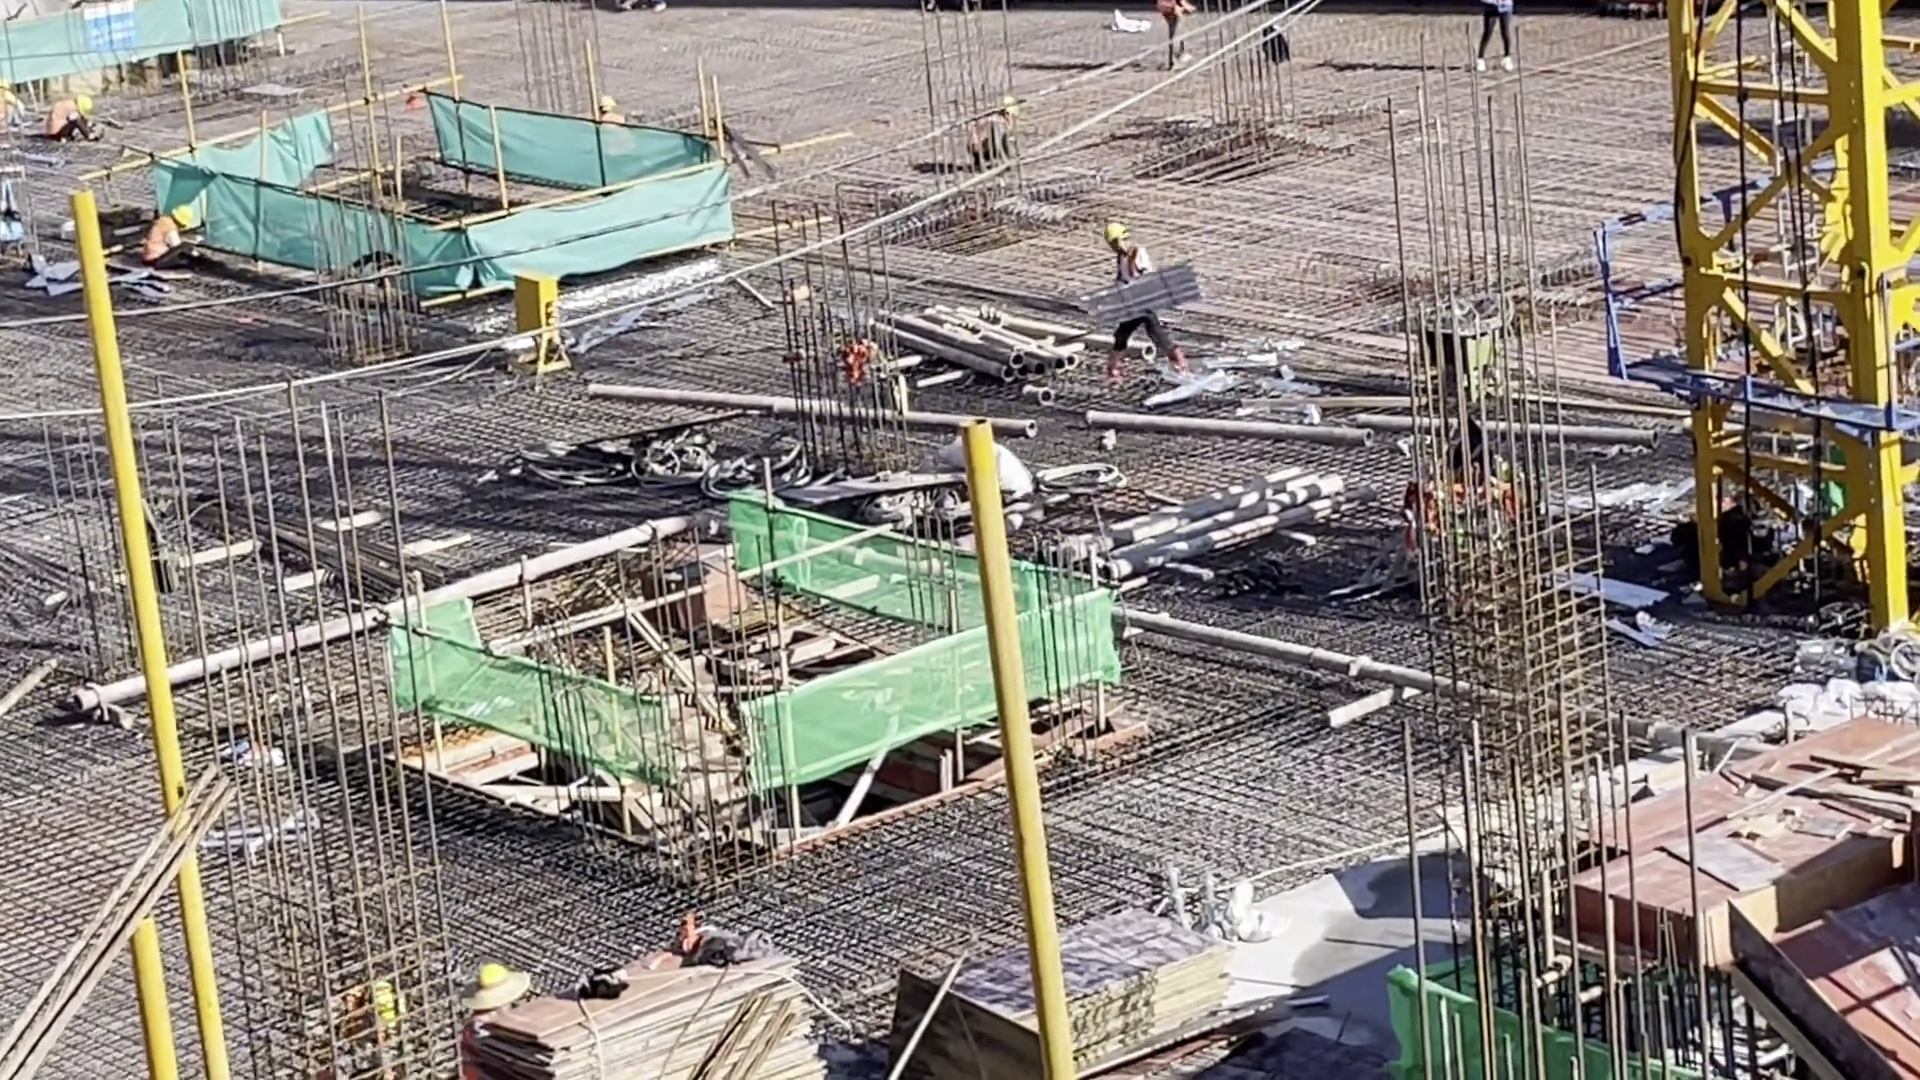board: (882, 865, 1265, 1075), (419, 924, 833, 1065)
ebox: (514, 254, 609, 407)
helmet: (479, 954, 516, 993), (72, 87, 97, 124), (1103, 216, 1131, 242), (171, 200, 194, 223), (594, 93, 619, 111), (1, 78, 17, 92)
person: (1092, 216, 1194, 397), (138, 189, 221, 276), (964, 90, 1025, 163), (1473, 1, 1519, 76), (584, 86, 642, 140), (45, 93, 106, 144), (1162, 1, 1199, 67), (1, 77, 17, 136)
scaffold: (880, 295, 1114, 427)
